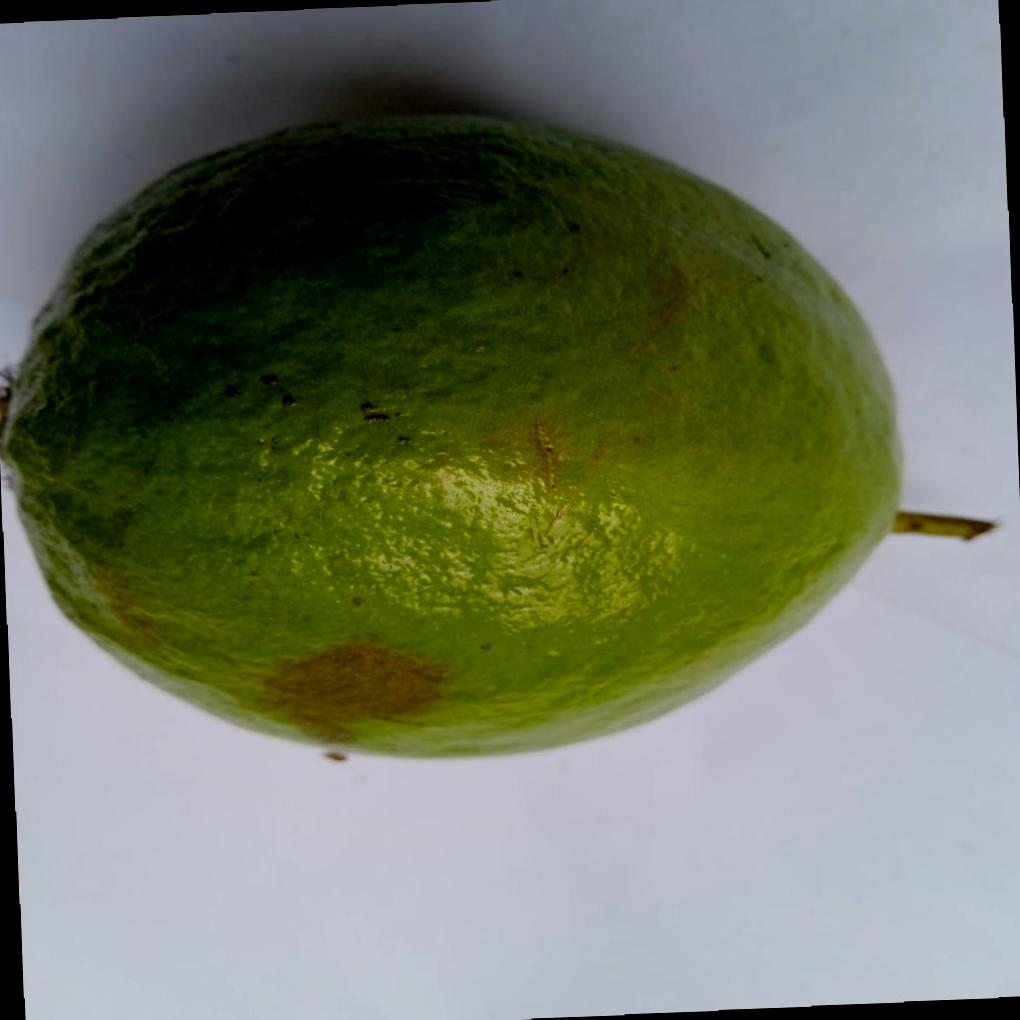FreshGuava: (1, 113, 907, 766)
